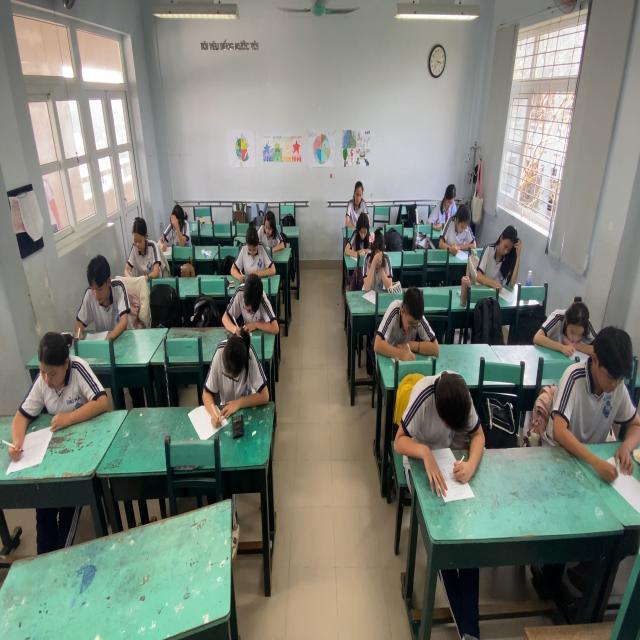not_cheating: (386, 354, 486, 468), (554, 333, 640, 443), (19, 323, 107, 417), (210, 323, 266, 420), (384, 288, 439, 368), (228, 260, 280, 344), (79, 257, 130, 337), (472, 220, 524, 284), (540, 291, 591, 347), (364, 229, 398, 299), (233, 212, 270, 272), (128, 217, 161, 284), (436, 205, 478, 254), (160, 195, 192, 254), (254, 208, 286, 257), (434, 182, 461, 223), (352, 205, 371, 254), (344, 178, 371, 212)
